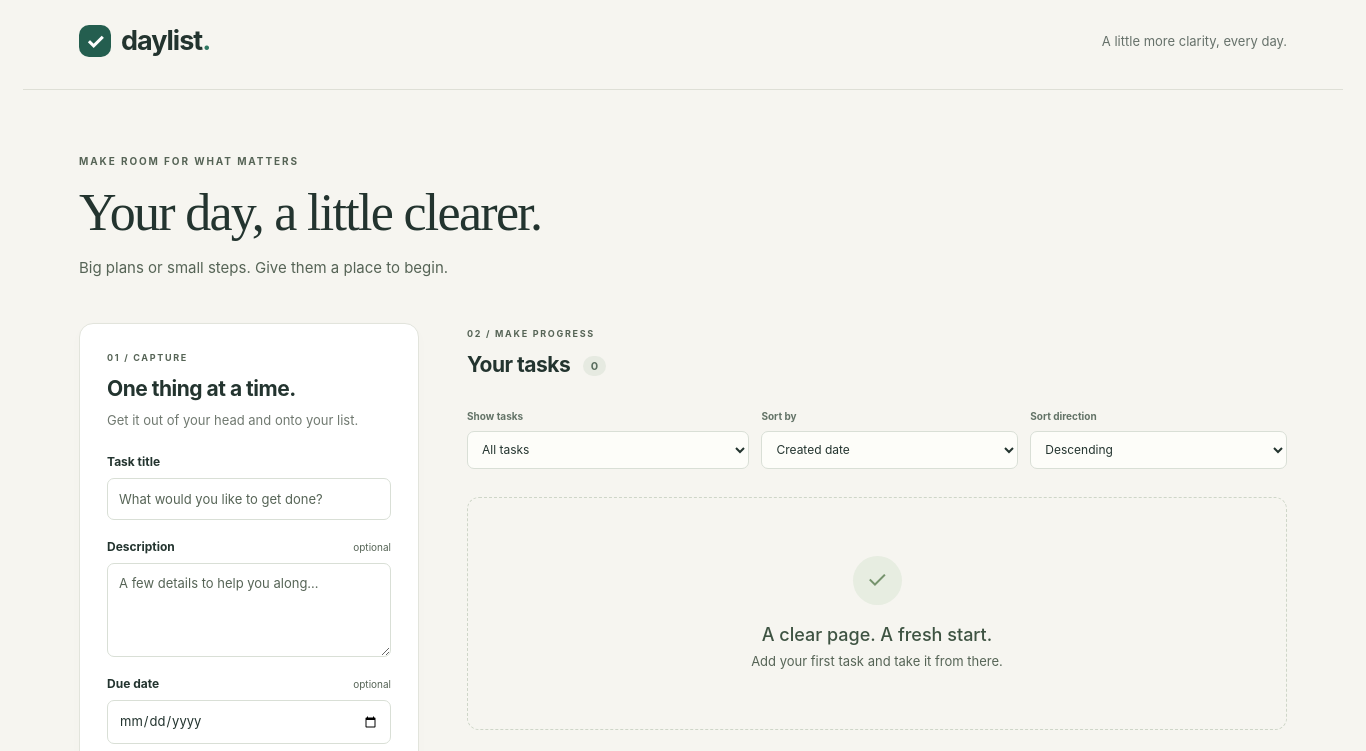
preserves failed form values and allows retry
This screenshot has width=1366, height=751.
Type "Keep my notes" into the field labelled "Task title" at point(249, 499), box [107, 478, 391, 520]
(page scrolled)
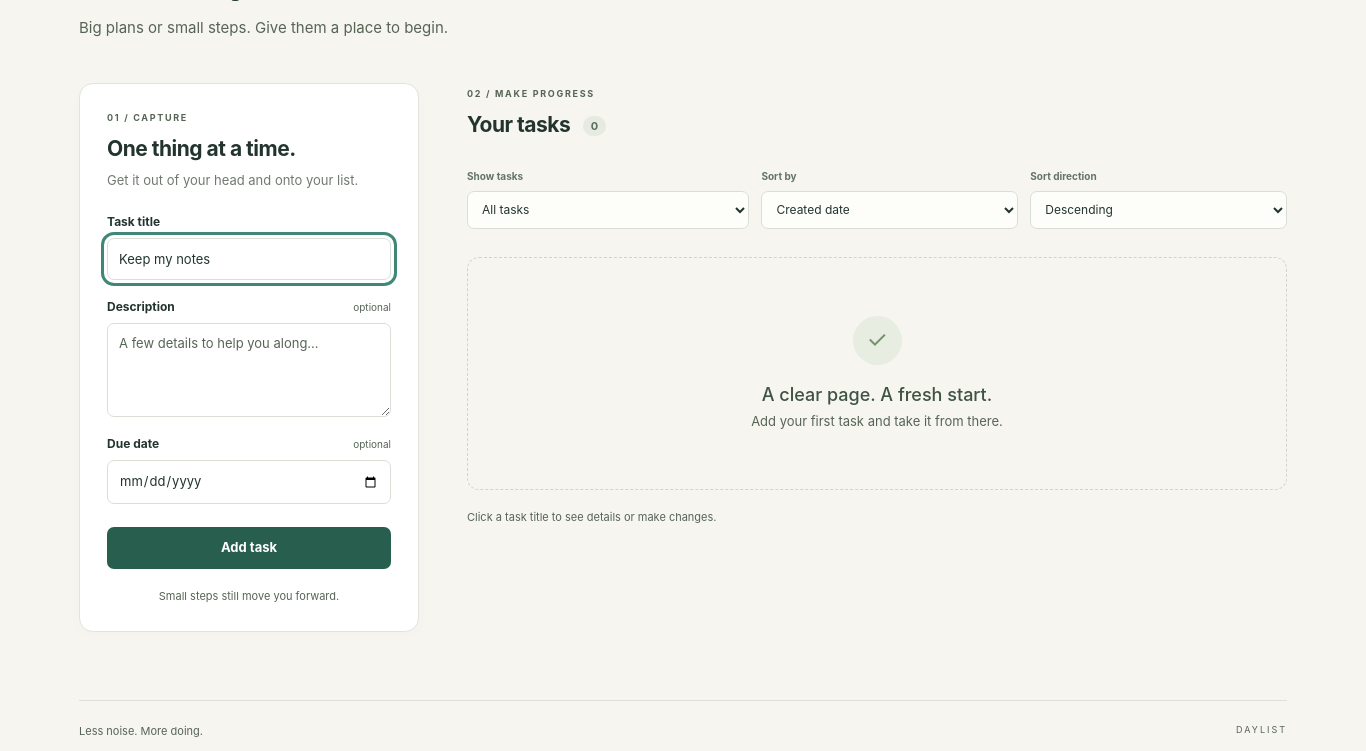
Click the button "Add task" at point(249, 548), box [107, 527, 391, 569]
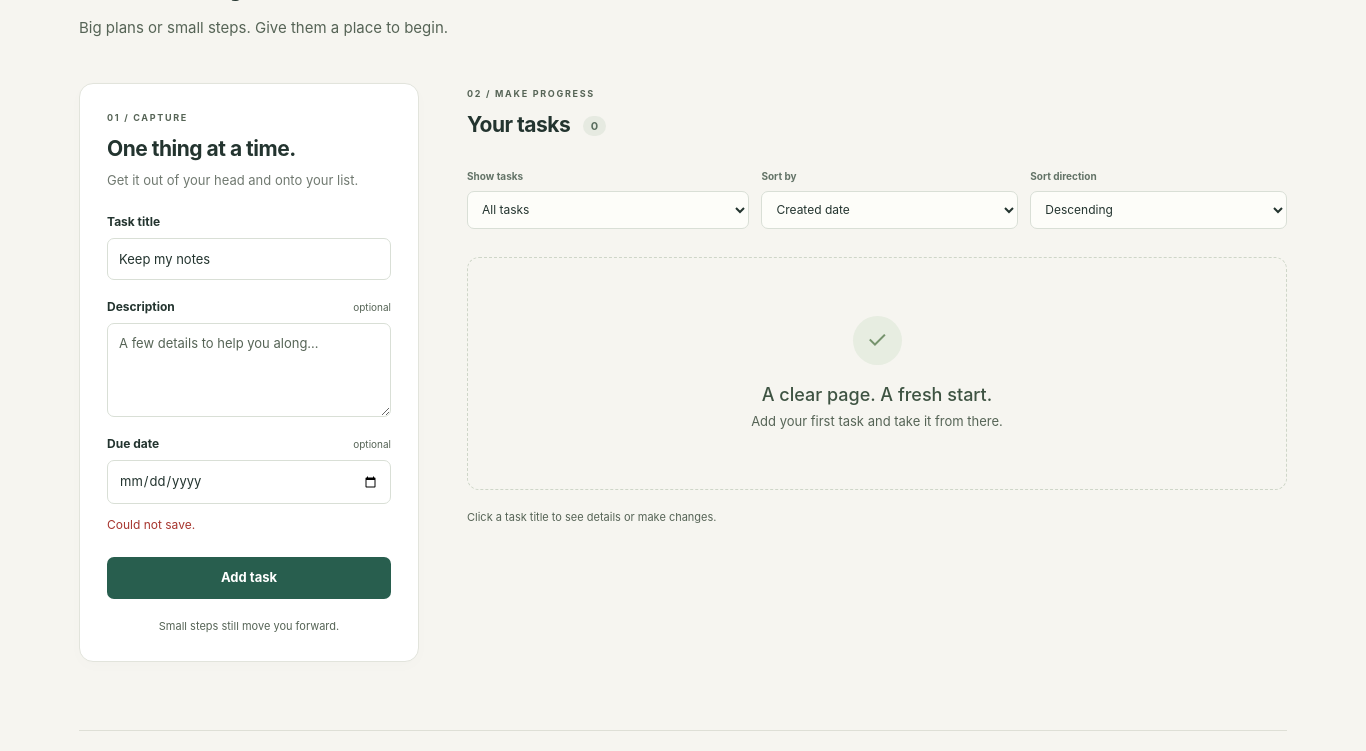
Expected: the text "Could not save." is shown, [107, 517, 195, 532]
